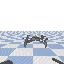drone: (22, 35, 48, 48)
